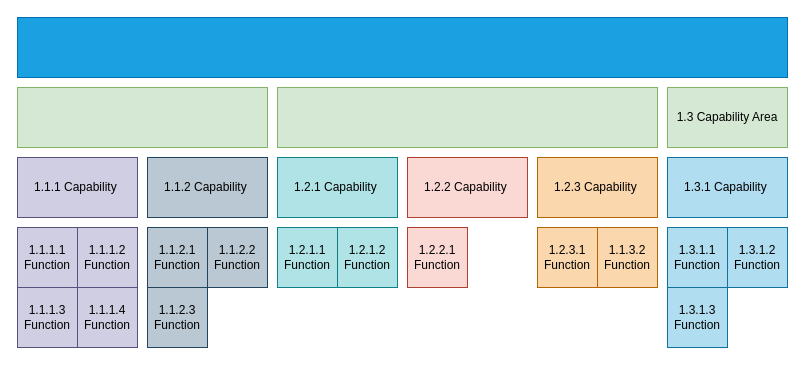
Image size: 805x365. Some labels were removed from this diagram. The shapes that lost their labels are listed below. From the top down, each one's box as (x1, y1, x2, y2) in pixels, then its label:
(16, 16, 788, 78): 1 Capability Domain
(16, 86, 268, 148): 1.1 Capability Area
(276, 86, 658, 148): 1.2 Capability Area
